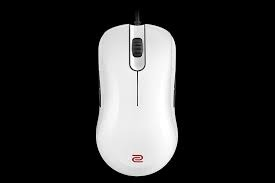mouse: (95, 21, 180, 177)
